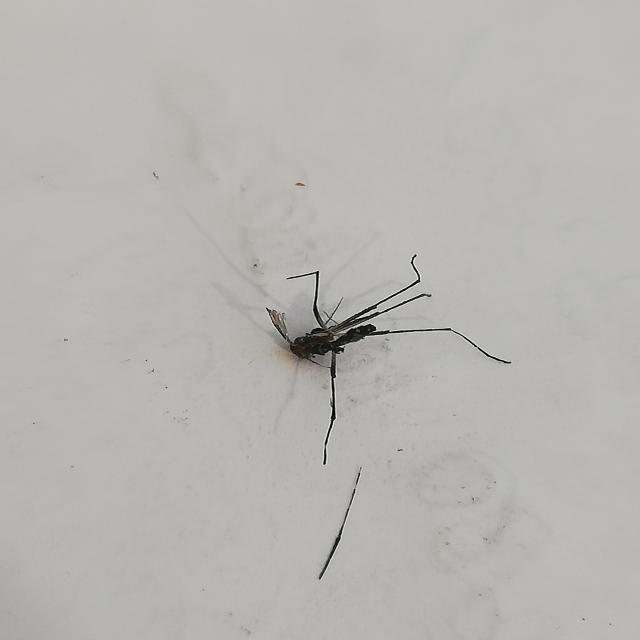albopictus: (249, 237, 518, 478)
